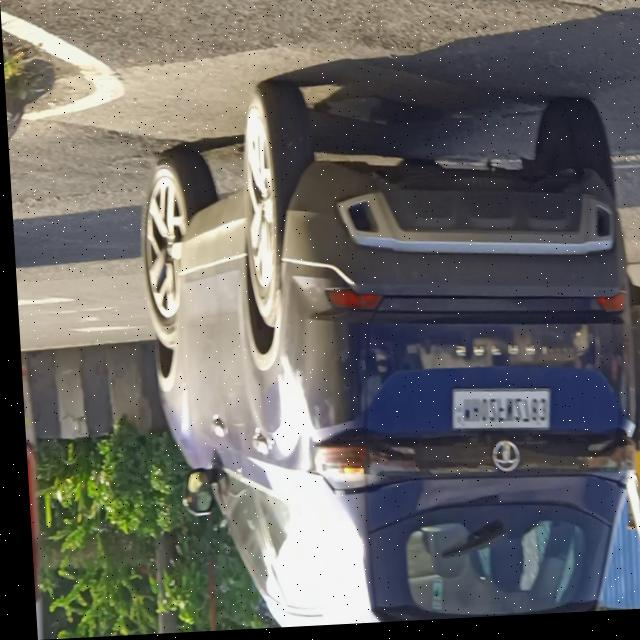plate: (444, 390, 548, 440)
